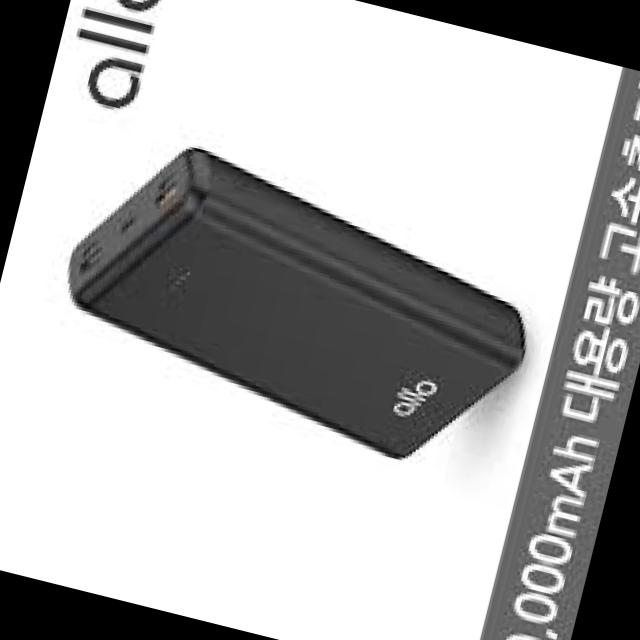portable-charger: (39, 112, 556, 482)
